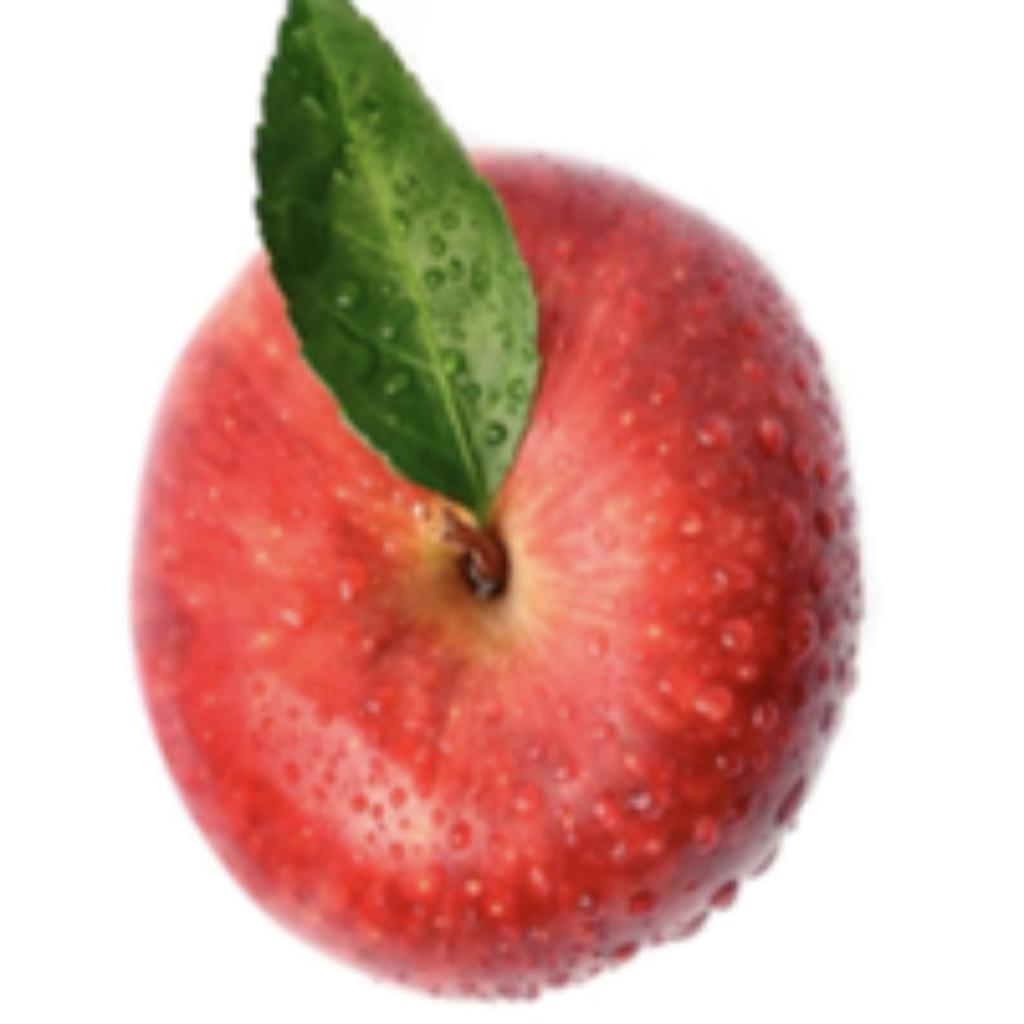apple: (118, 0, 881, 1009)
